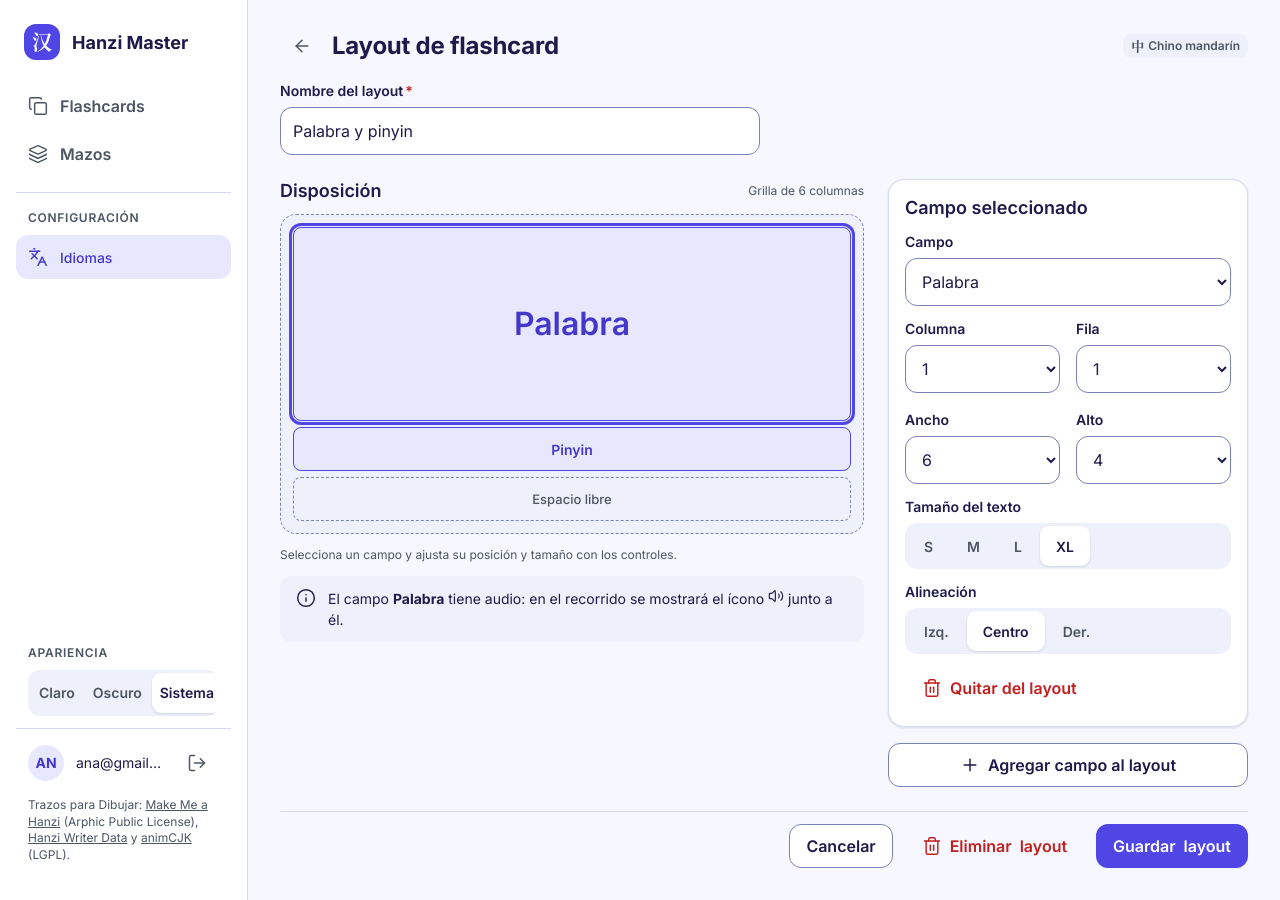
Test case: I04 · Editor de layout › I04-3 no permite solapar campos: informa el error y conserva el valor
The width and height of the screenshot is (1280, 900).
Expected: the field labelled "Nombre del layout*" is shown, [280,107,760,155]
Step 1. Click the button with aria-label "Pinyin," → (572, 449), box [293,427,851,471]
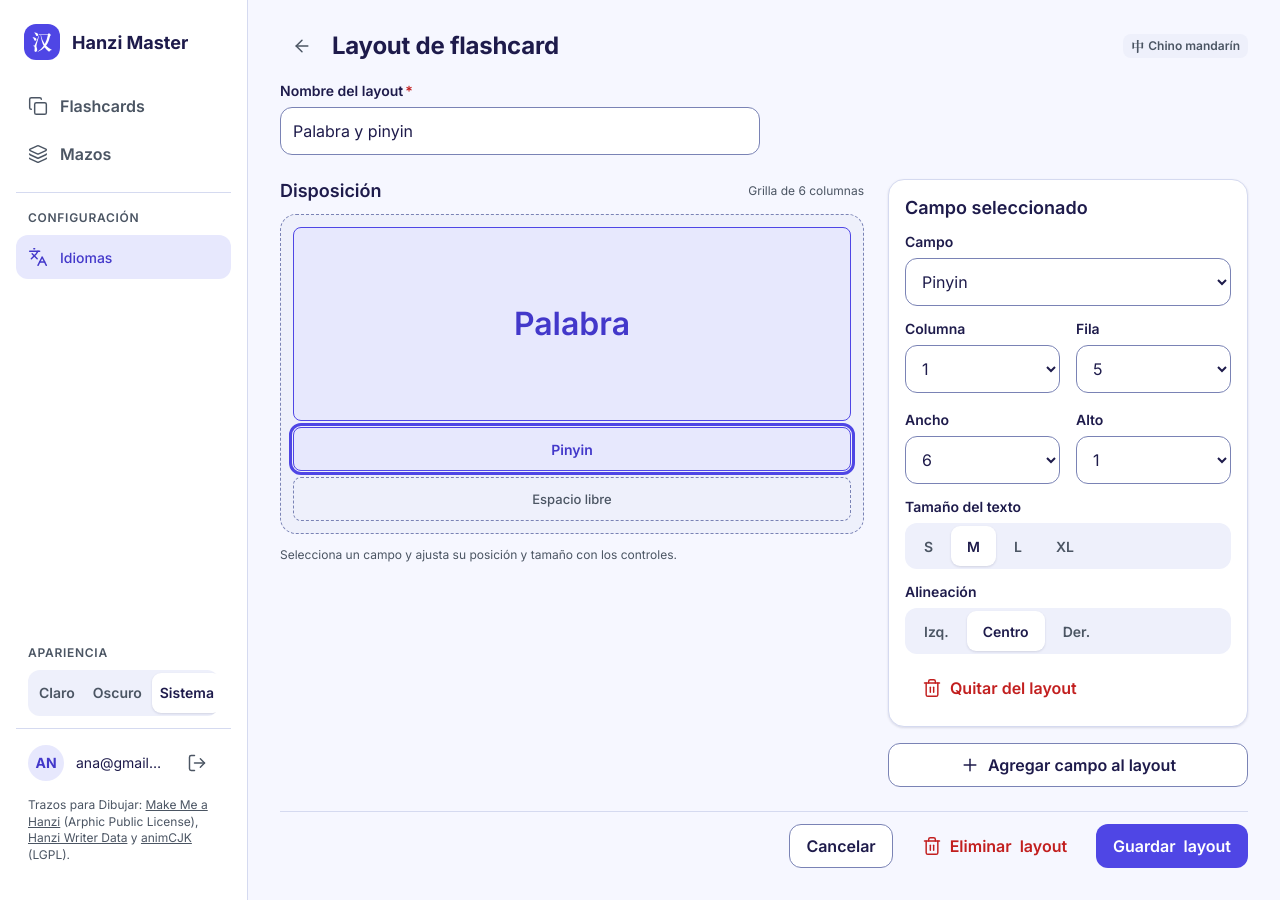
Step 2. Select "2" in the dropdown labelled "Fila" → (1154, 369), box [1076,345,1231,393]
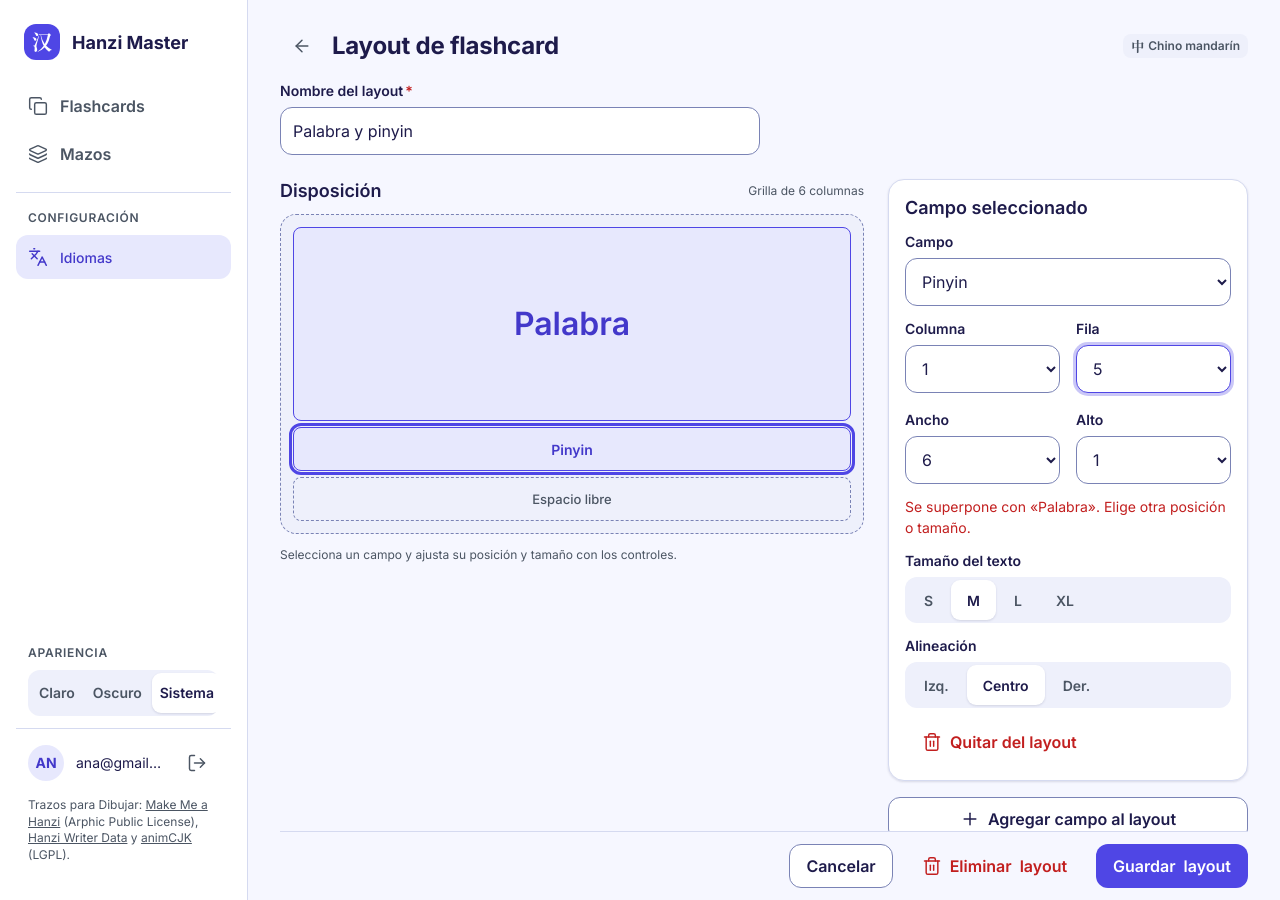
Expected: the message shows "Se superpone con «Palabra»", [905,498,1226,536]
